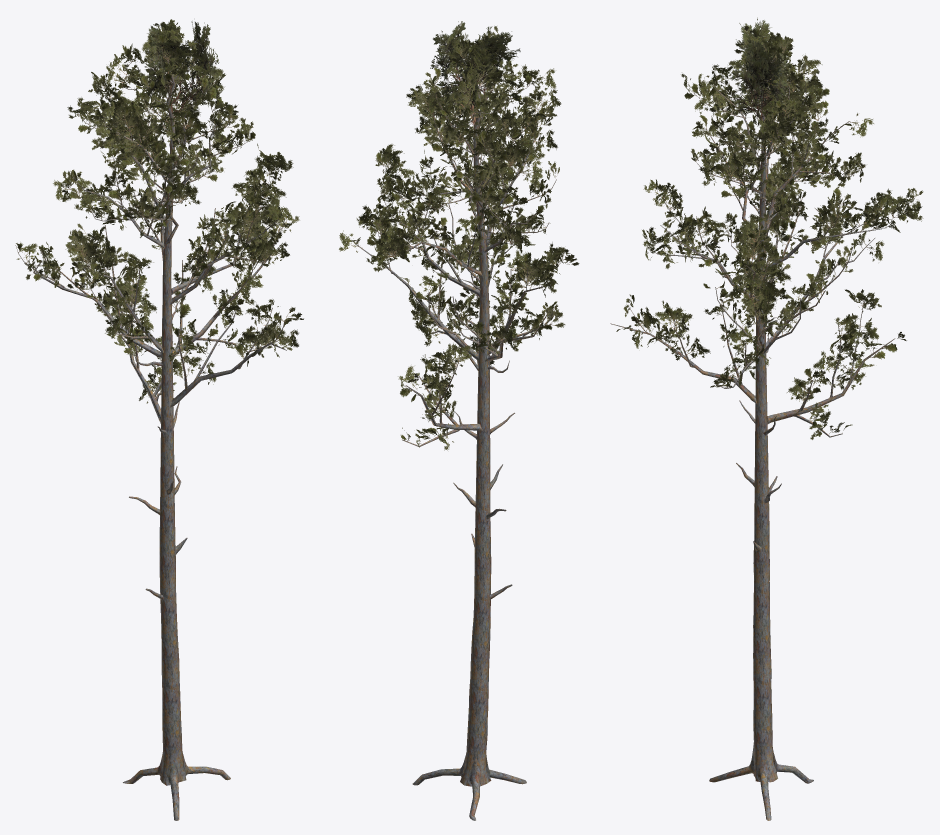
Rendered from Pine.fbx.
3 renders of one model, left to right at view 1: azimuth 30°, elevation 25°; view 2: azimuth 150°, elevation 25°; view 3: azimuth 270°, elevation 25°, orthographic.
Parts seen in each view (by area): view 1: Pine_LOD0; view 2: Pine_LOD0; view 3: Pine_LOD0.
Part boxes in pixels (box(x1,y1,x2,y2)): Pine_LOD0: box(15, 19, 303, 820); Pine_LOD0: box(339, 21, 579, 820); Pine_LOD0: box(610, 17, 923, 820).
Size of what is drawn, in the model's own units: 7.67 by 22.44 by 8.39.
2 materials, 2 textured.
